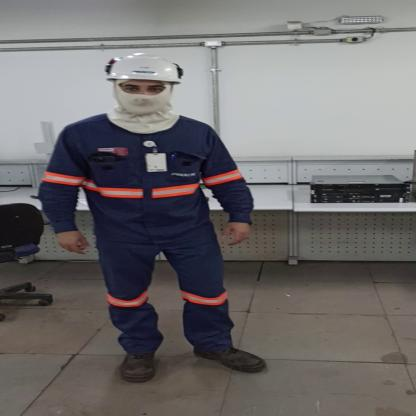Balaclava: (102, 81, 185, 136)
Capacete: (97, 51, 191, 89)
